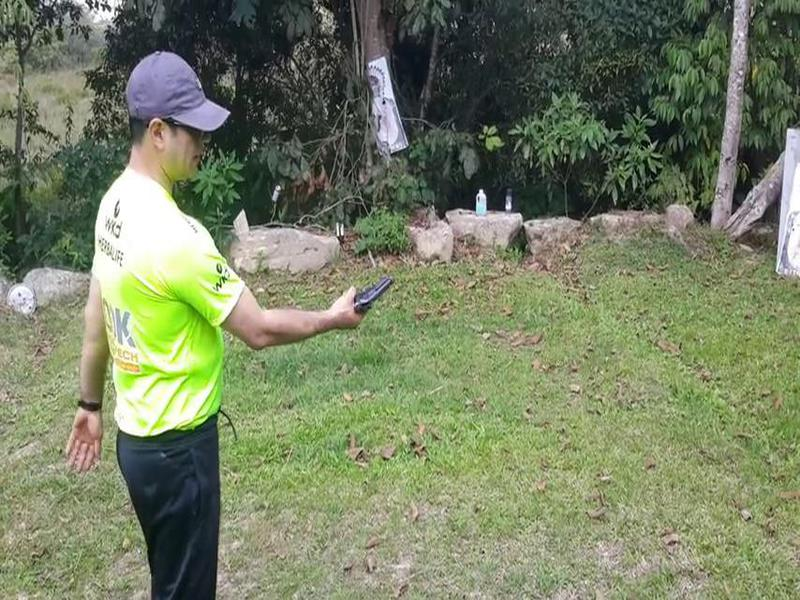Pistola: (346, 271, 405, 324)
